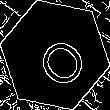O_NW: (23, 22, 87, 88)
